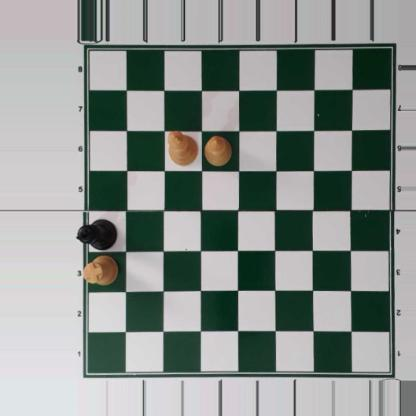black-king: (75, 219, 119, 252)
white-bishop: (204, 135, 231, 166)
white-king: (166, 130, 199, 165)
white-rook: (83, 256, 119, 285)
